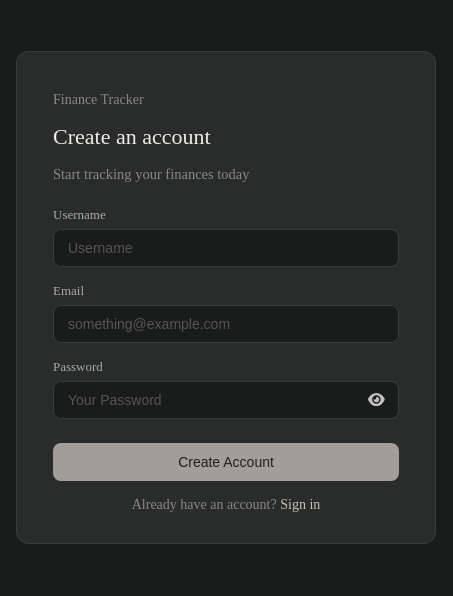
Test: Register › disables create account button until password is valid
Expected: the button "Create Account" is disabled, [53,442,399,480]
Type "ValidPass123!" into the password field labelled "Password" at [226, 400], box [53,380,399,418]
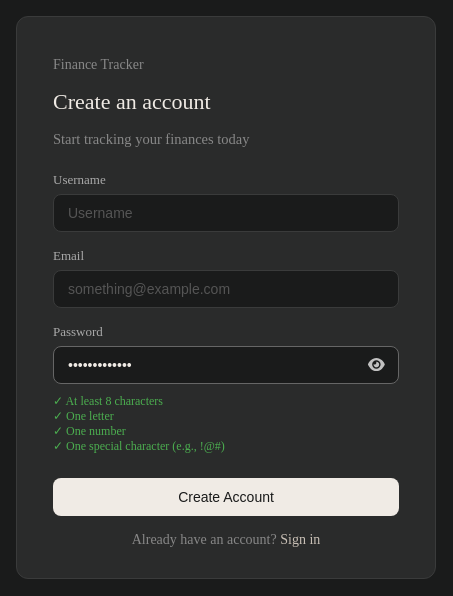
Result: the button "Create Account" is enabled at [53,478,399,516]
